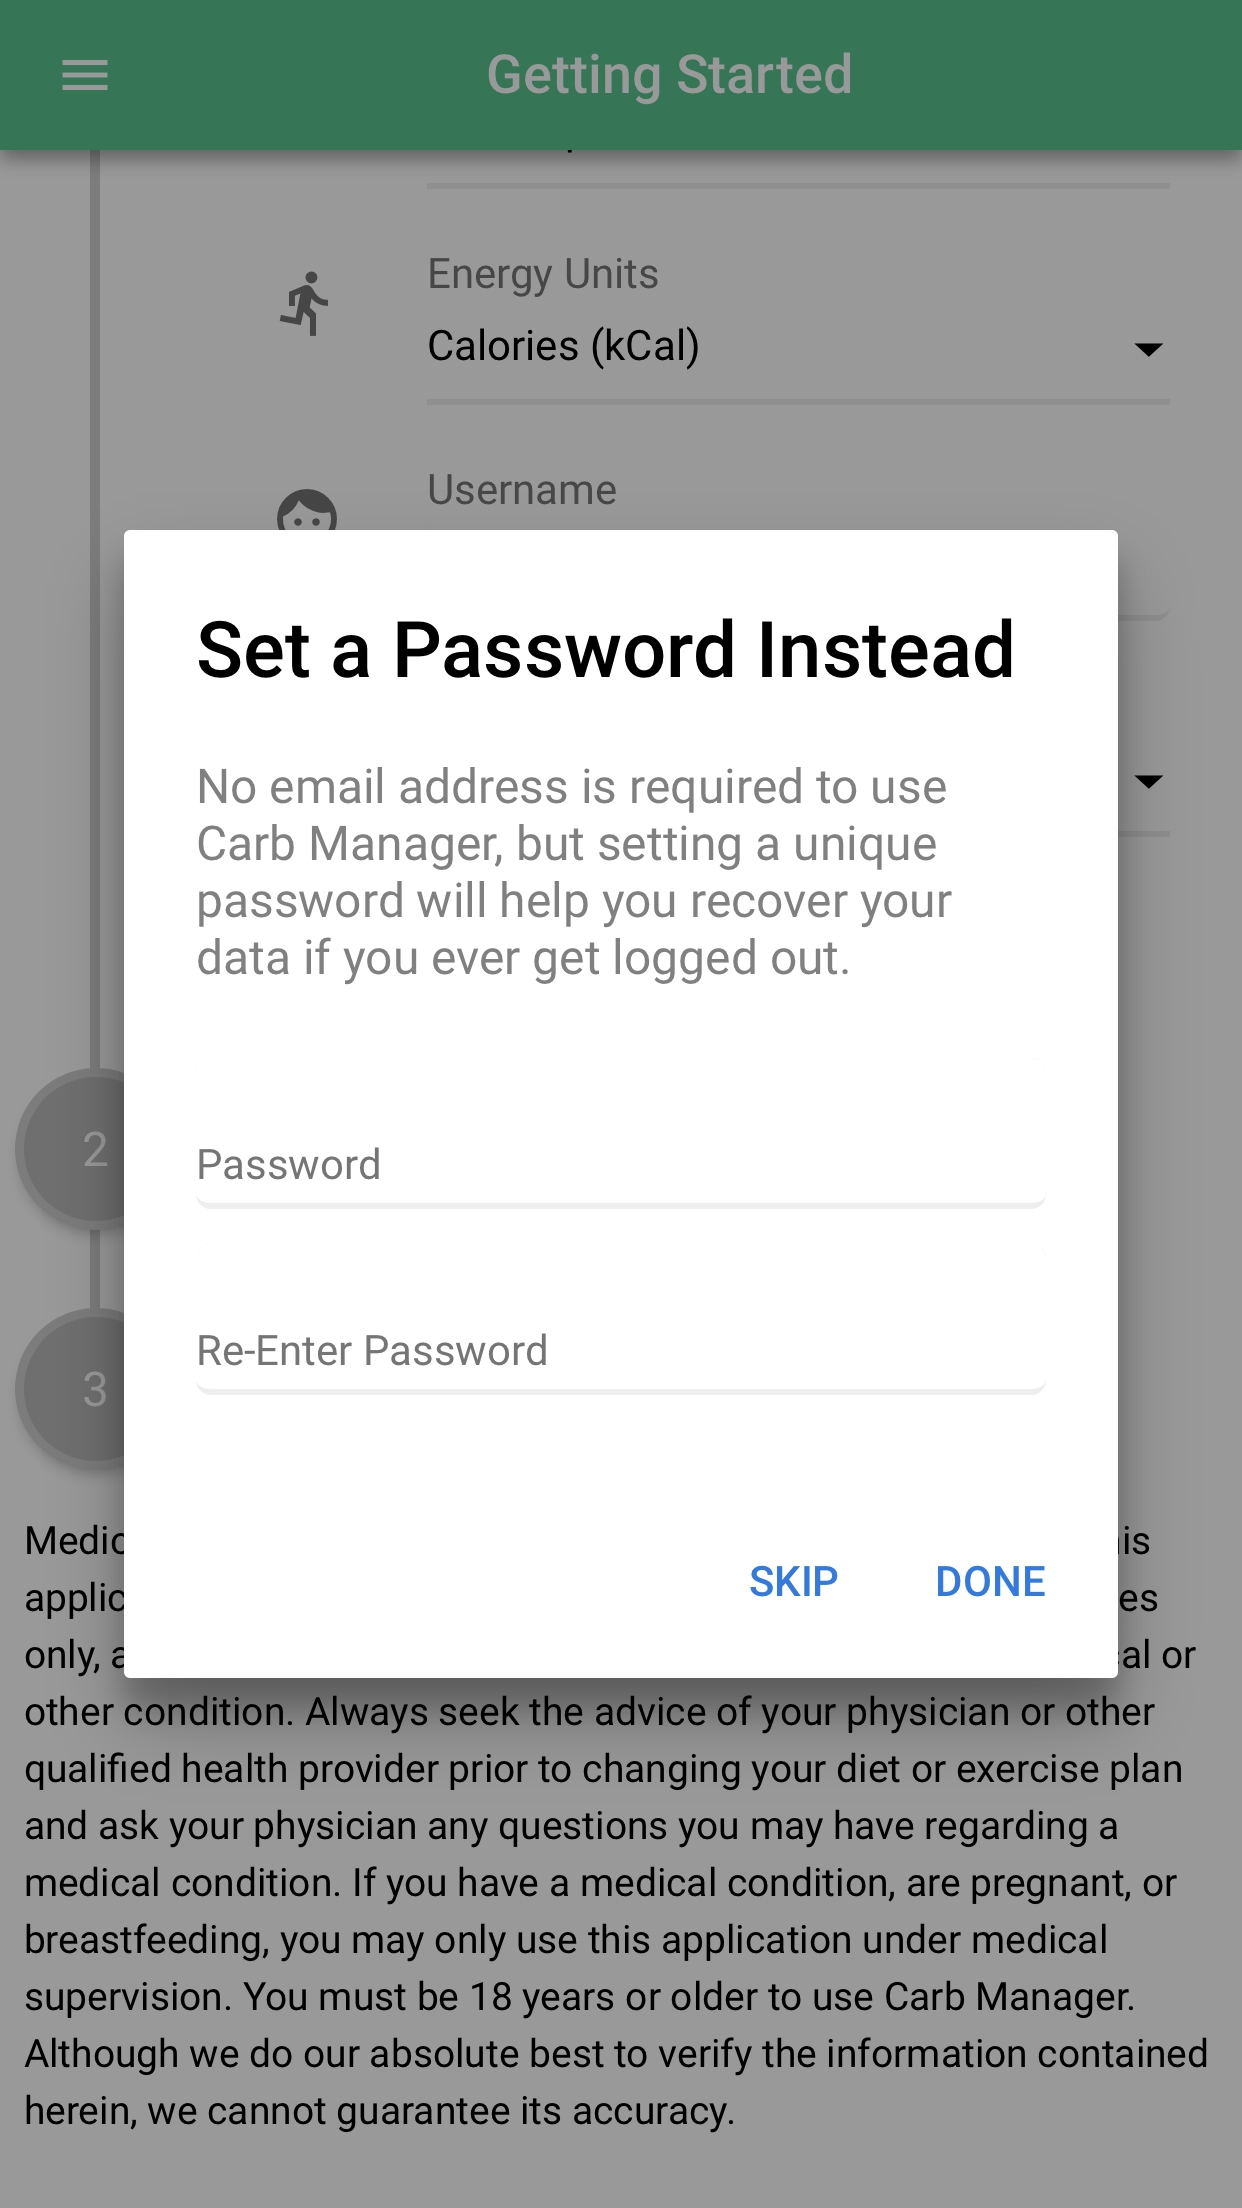EditText: (196, 1331, 1046, 1397), (196, 1146, 1046, 1210)
Icon: (278, 273, 329, 338), (61, 61, 109, 93), (1134, 343, 1163, 358)
Modal: (124, 529, 1119, 1679)
Text: (26, 1695, 1183, 2134), (199, 767, 952, 986), (199, 619, 1011, 679), (488, 53, 852, 108), (199, 1331, 547, 1366), (428, 328, 699, 372), (431, 256, 660, 299), (199, 1146, 381, 1181), (429, 475, 617, 507), (937, 1565, 1046, 1598), (751, 1565, 839, 1598)
